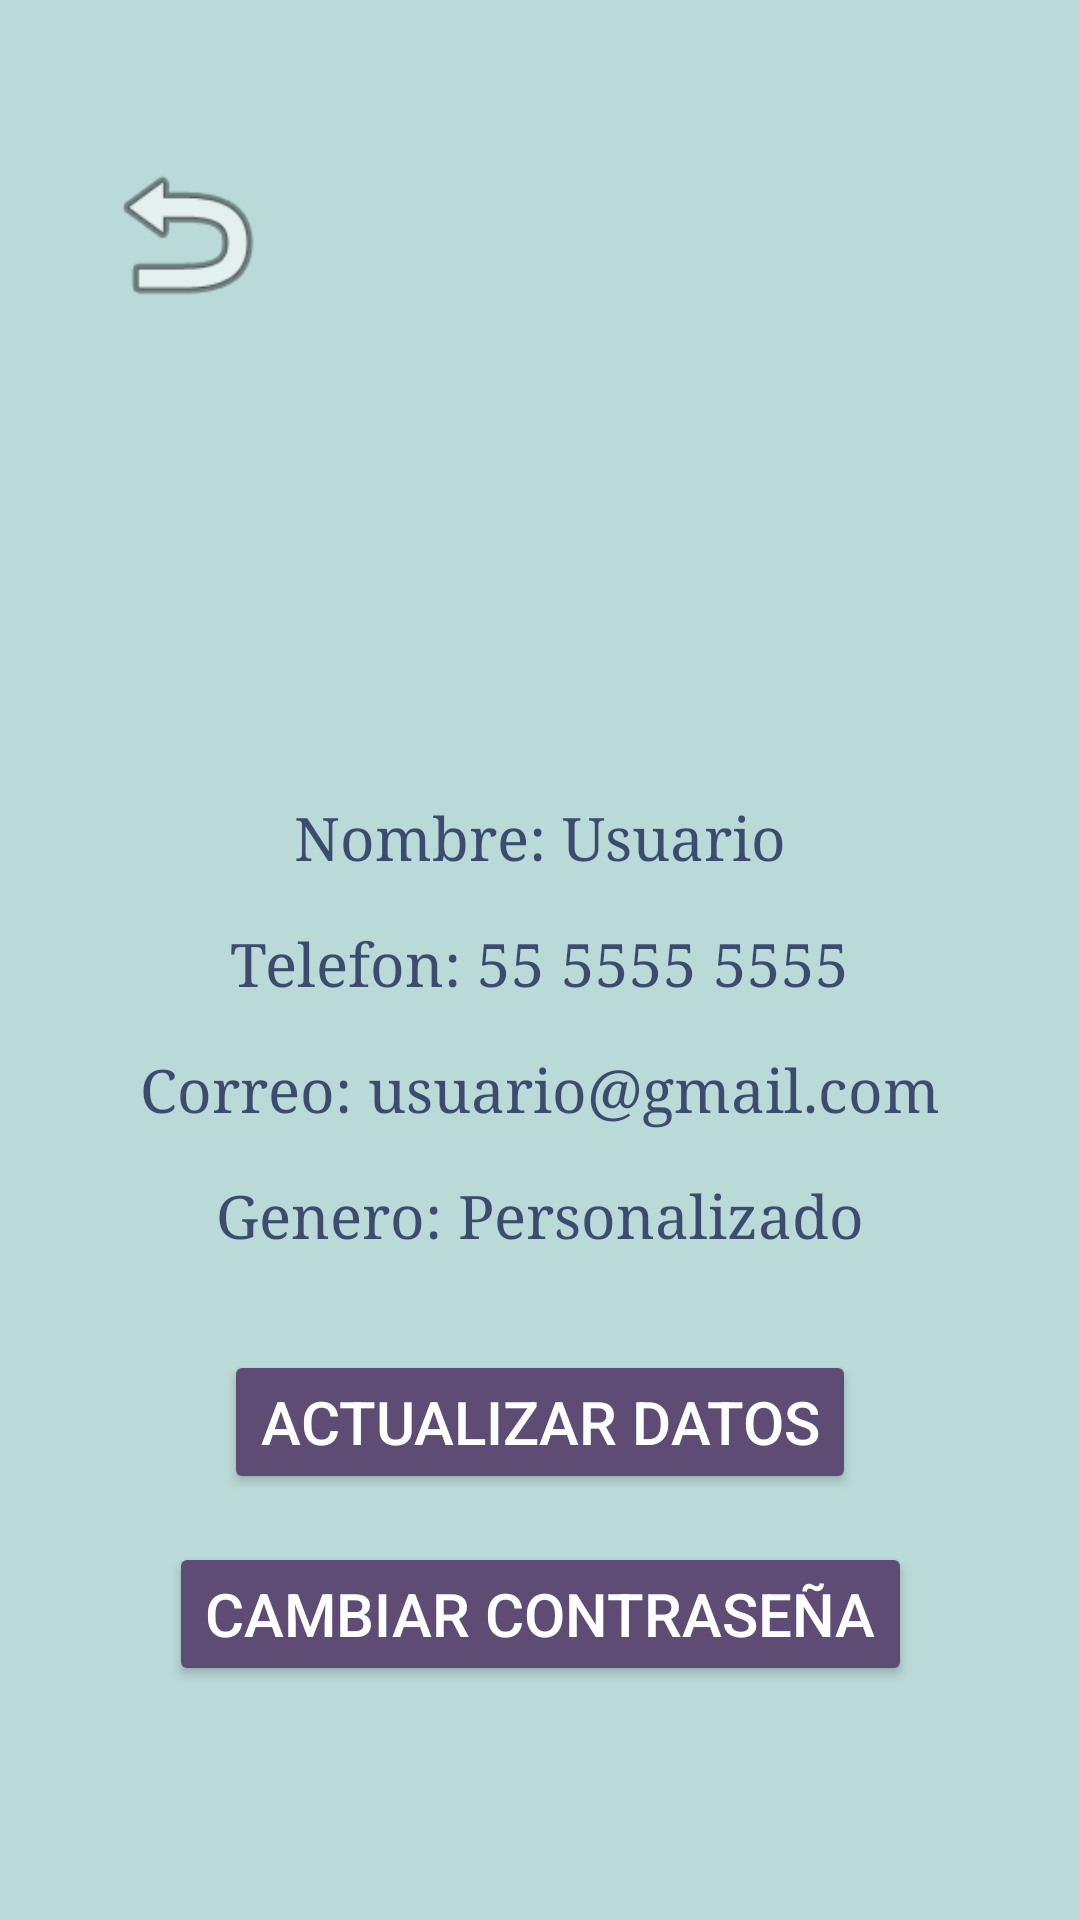

Named icons in this screenshot (1080px x 1920px) and their centers, (x,y):
revert: (188,235)
